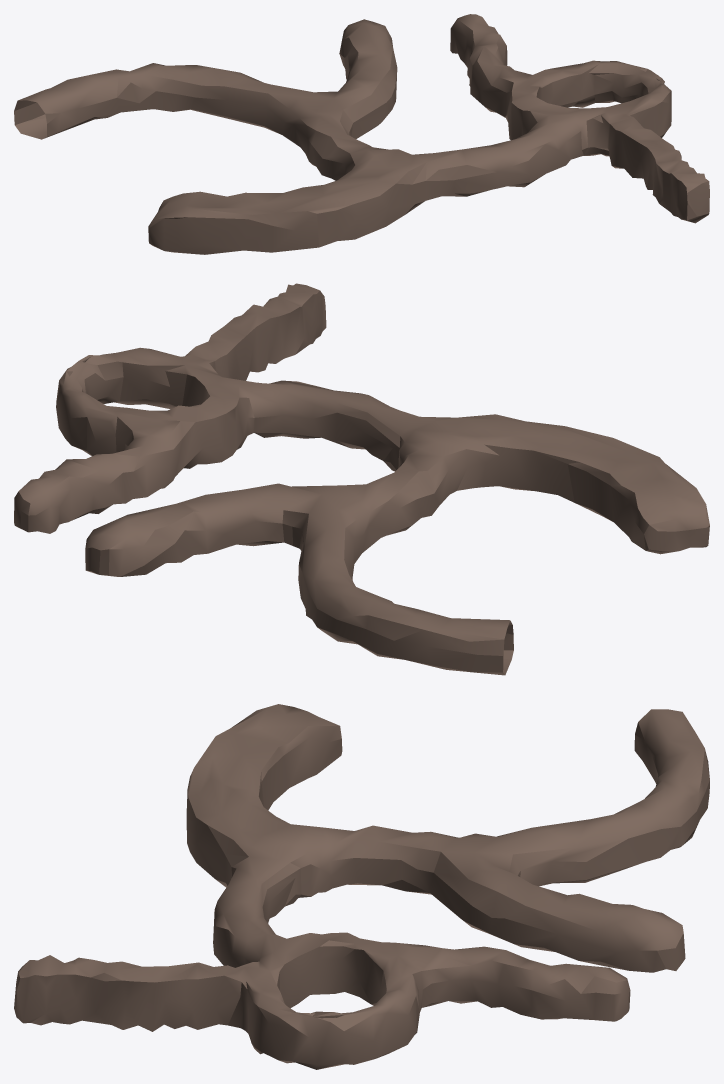
File: cave.fbx
The picture shows the model from 3 angles, top to bottom: view 1: azimuth 30°, elevation 25°; view 2: azimuth 150°, elevation 25°; view 3: azimuth 270°, elevation 25°; orthographic projection. The views are drawn at different scales.
Visible parts, largest first — view 1: Cube; view 2: Cube; view 3: Cube.
Part boxes in pixels (box(x1,y1,x2,y2)): Cube: box(14, 14, 709, 254); Cube: box(14, 283, 709, 675); Cube: box(14, 704, 709, 1069).
Size of the model in its own units: 8773 by 735 by 7821.
